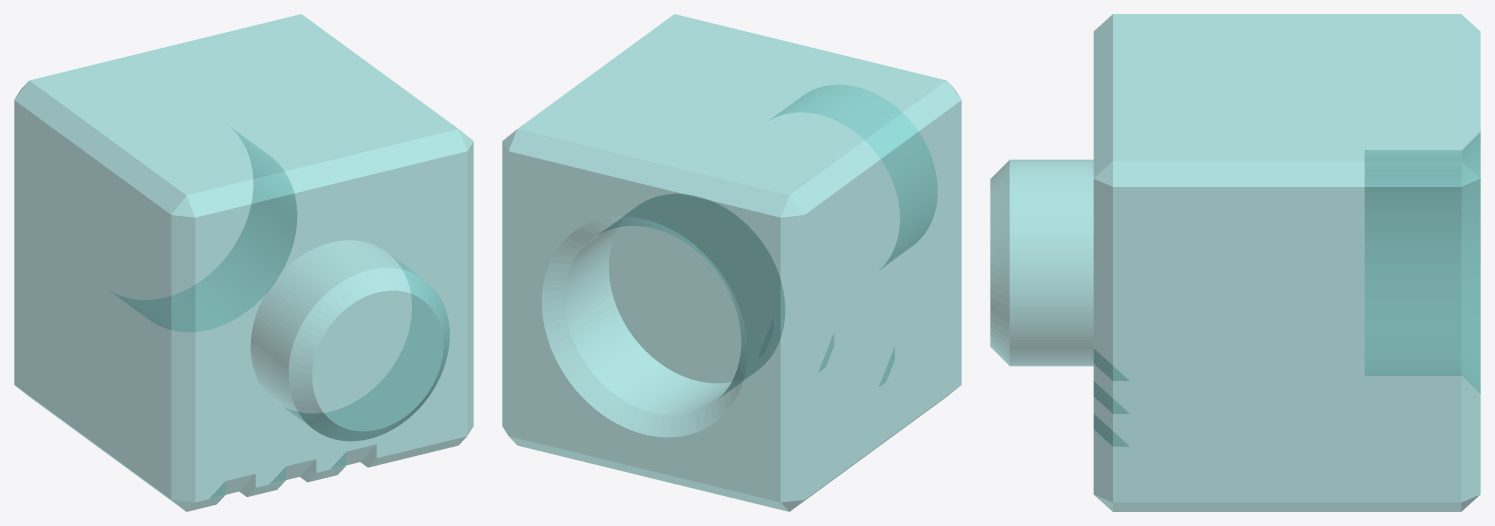
File: coupon-crystal-socket-30@crystal.glb
The picture shows the model from 3 angles, left to right: view 1: azimuth 30°, elevation 25°; view 2: azimuth 150°, elevation 25°; view 3: azimuth 270°, elevation 25°; orthographic projection. The views are drawn at different scales.
Visible parts, largest first — view 1: geometry_0; view 2: geometry_0; view 3: geometry_0.
Boxes of the visible parts, box(x1,y1,x2,y2) form: geometry_0: box(14, 14, 473, 511); geometry_0: box(502, 14, 961, 511); geometry_0: box(990, 14, 1480, 511).
Size of the model in its own units: 6 by 6 by 7.6.
